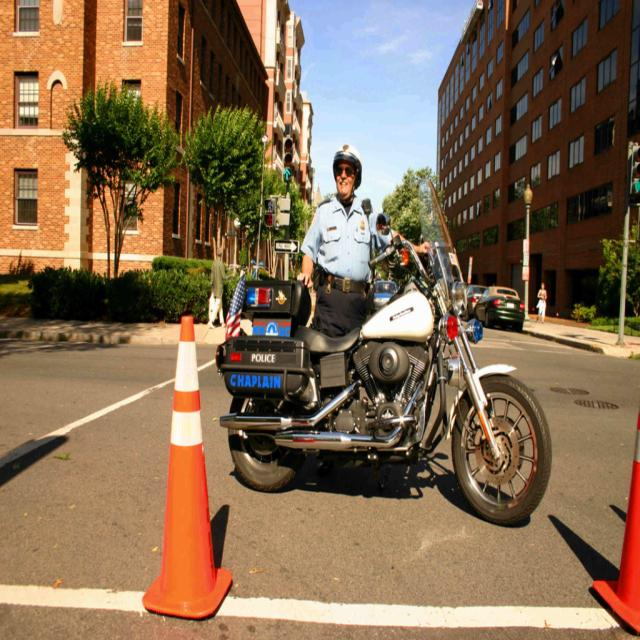car: (473, 286, 525, 328)
